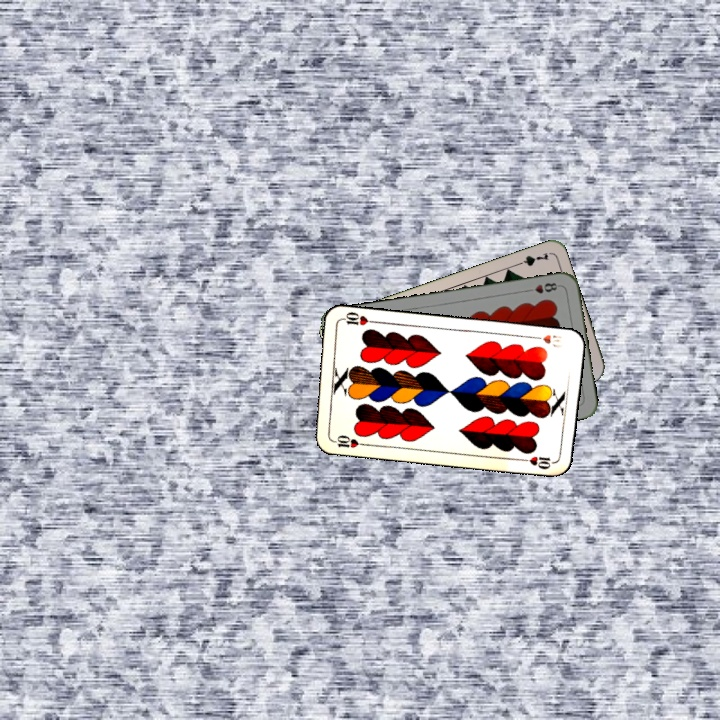G7: (511, 249, 551, 269)
H10: (328, 431, 368, 451), (528, 331, 565, 351)
H8: (522, 279, 562, 296)
